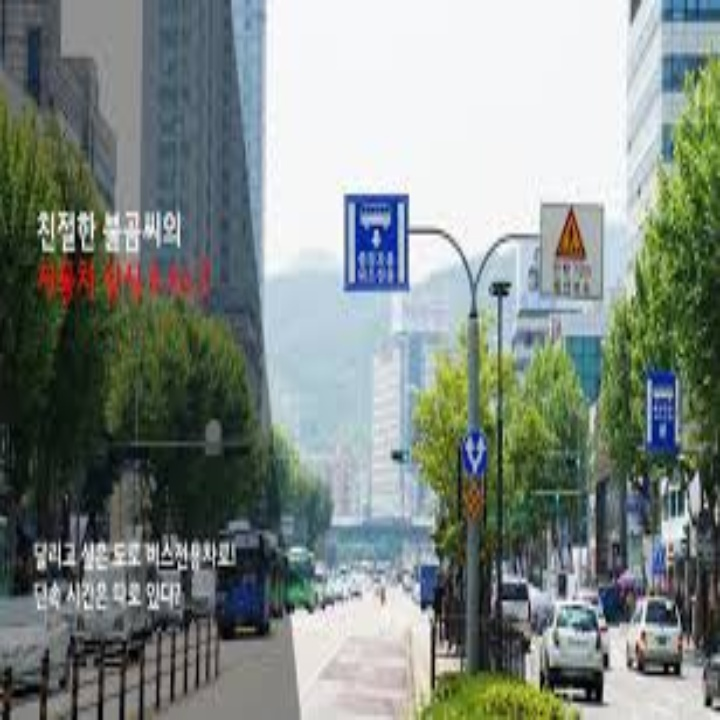bus: (357, 198, 396, 233)
